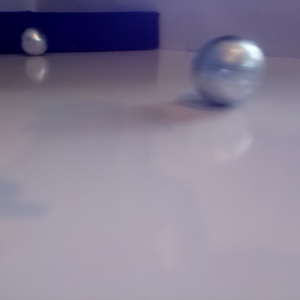zone: (1, 10, 159, 54)
